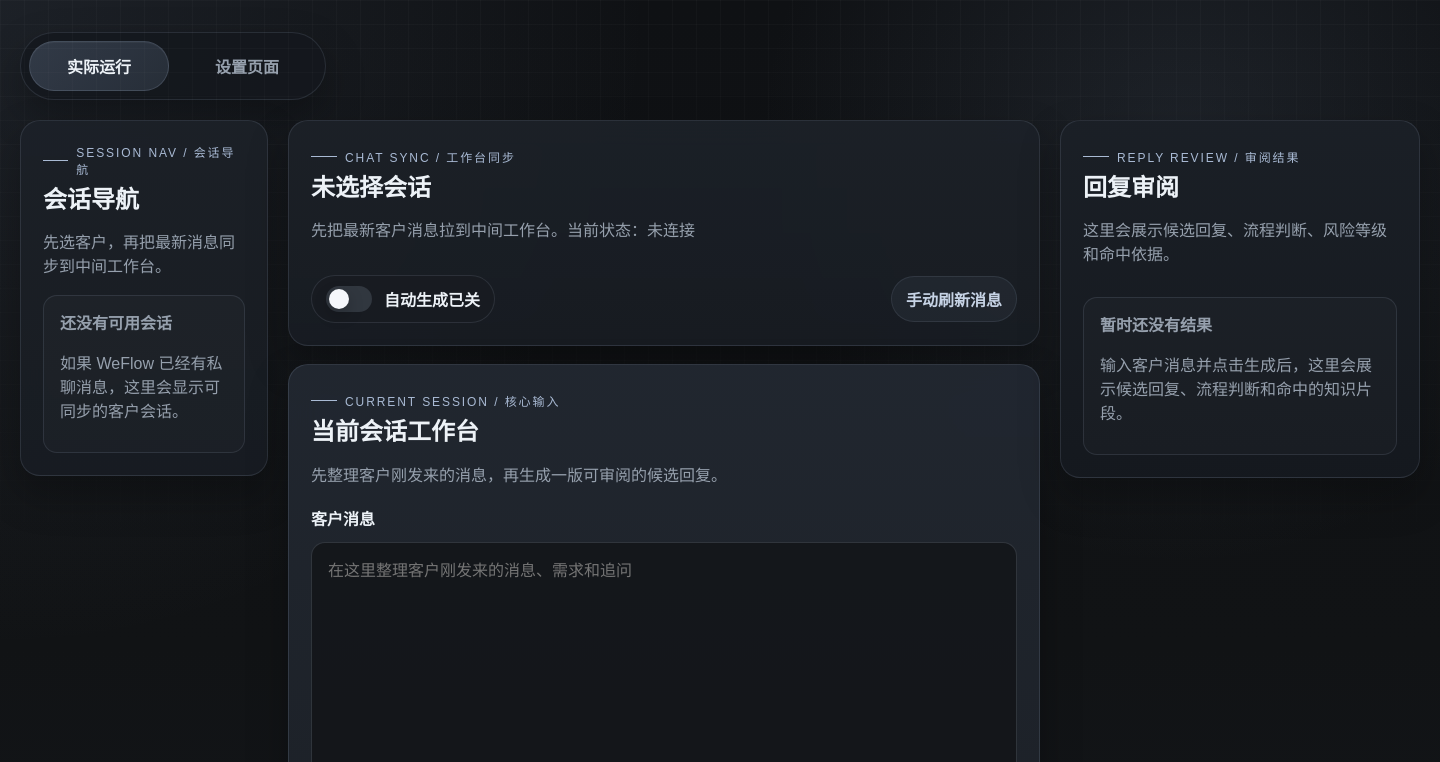
Test: App › 设置页会加载后端审计历史并展示记录
Click the tab "设置页面".
click(247, 66)  # box [177,41,317,91]
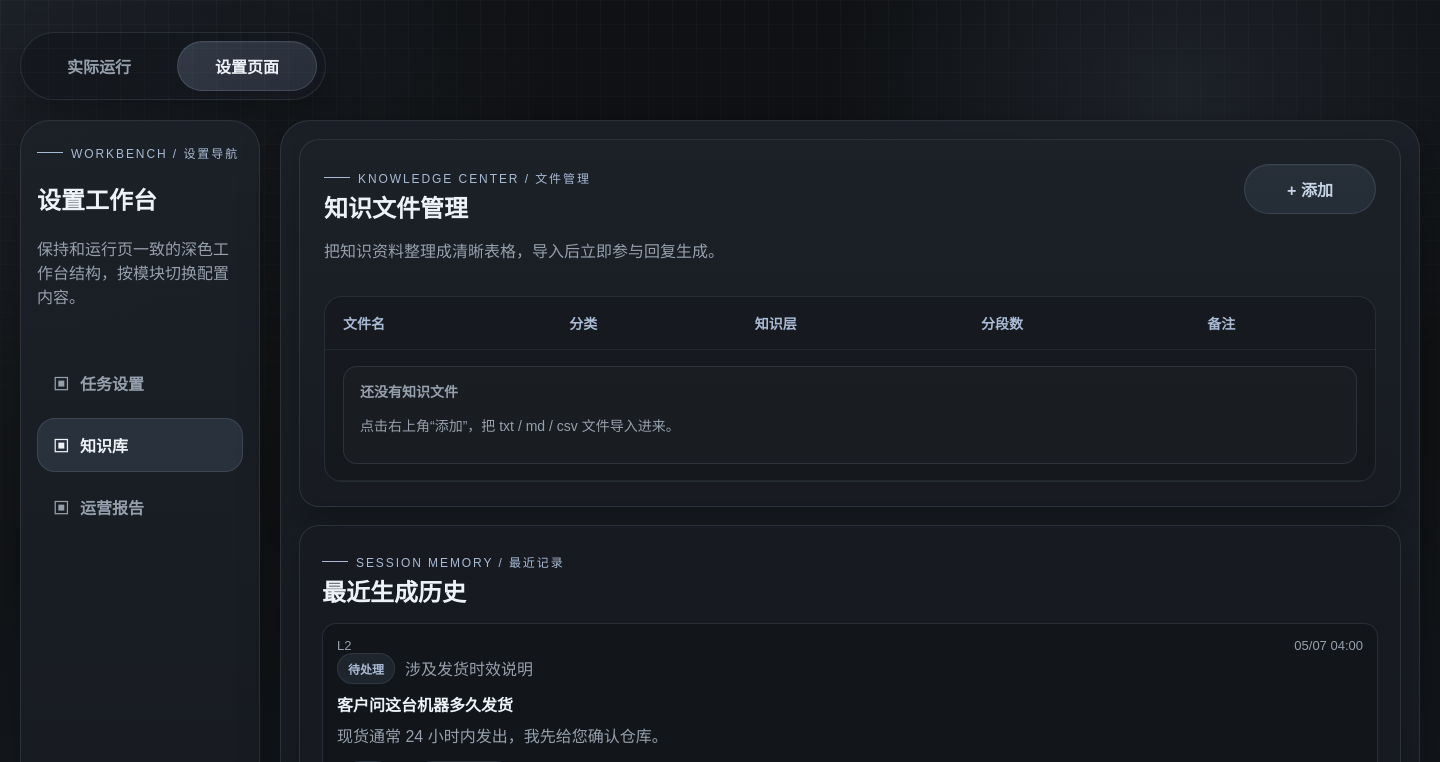
Expected: the text "客户问这台机器多久发货" is shown, [337,697,513,714]
Expected: the text "现货通常 24 小时内发出，我先给您确认仓库。" is shown, [337,728,668,745]
